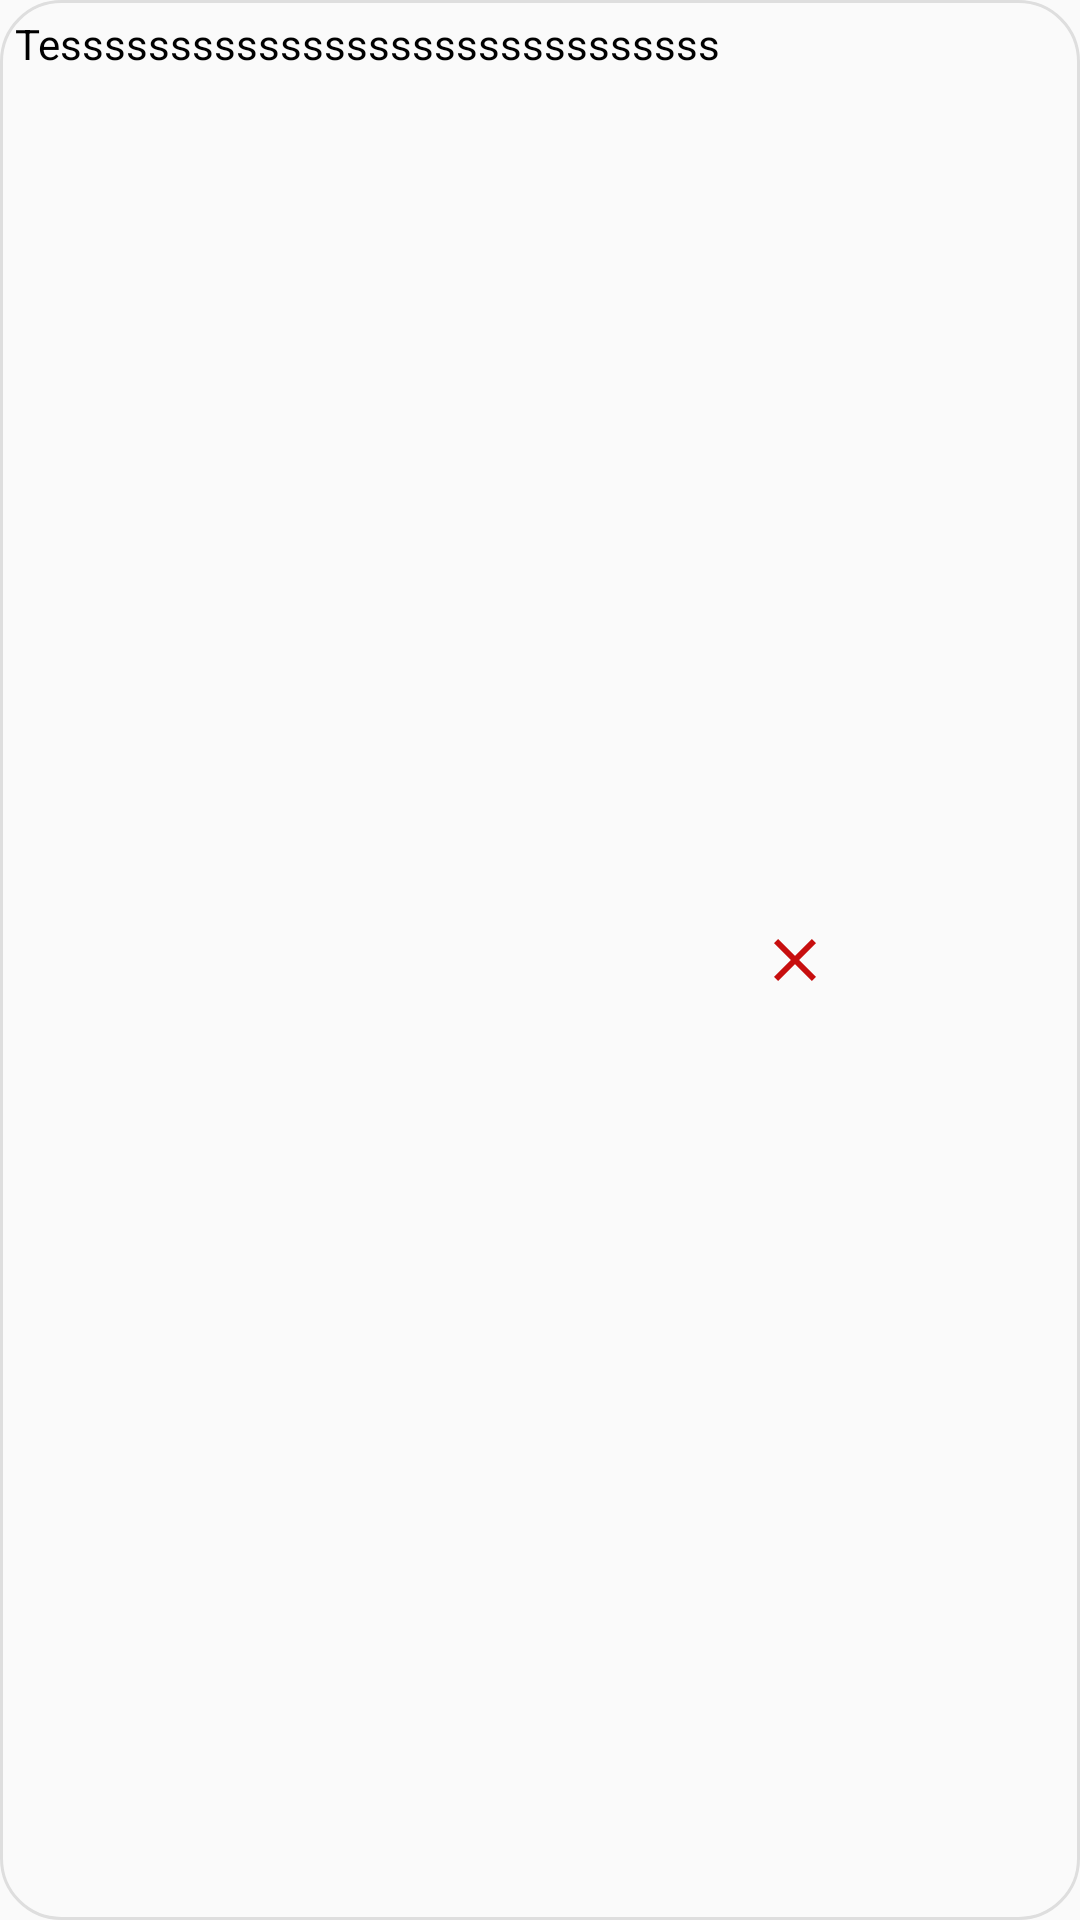

Named icons in this screenshot (1080px x 1920px) and their centers, point (x, y):
clear: point (795, 960)
